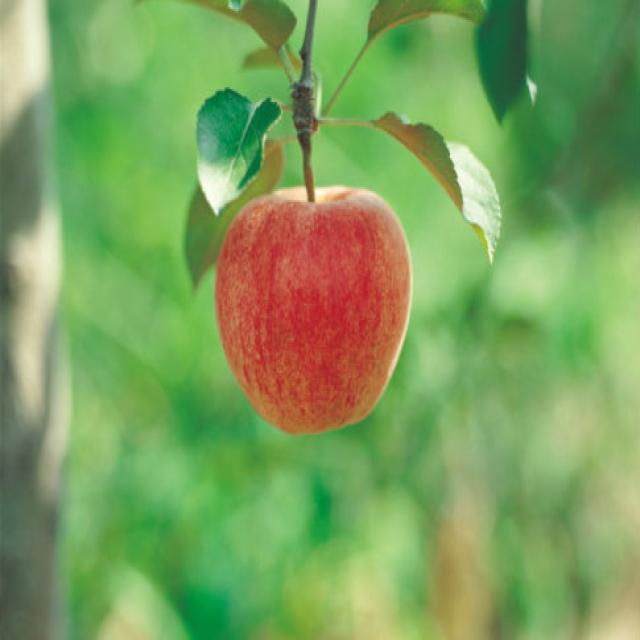Apple: (213, 182, 414, 441)
